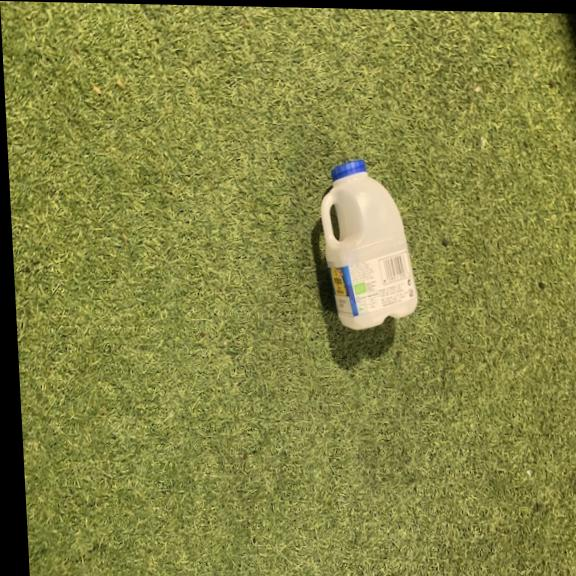Plastik: (316, 155, 425, 331)
